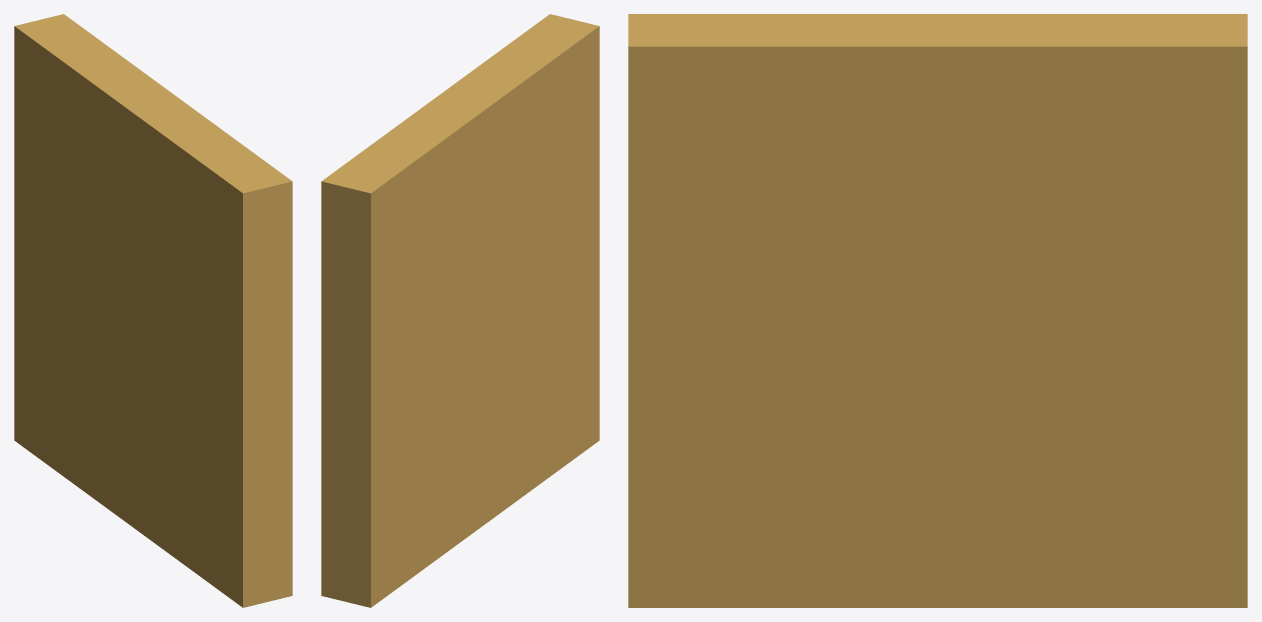
File: pared6a.obj
3 renders of one model, left to right at view 1: azimuth 30°, elevation 25°; view 2: azimuth 150°, elevation 25°; view 3: azimuth 270°, elevation 25°, orthographic. The views are drawn at different scales.
Visible parts, largest first — view 1: Wall.049; view 2: Wall.049; view 3: Wall.049.
Part boxes in pixels (x1,y1,x2,y2): Wall.049: (14,14,292,607); Wall.049: (321,14,599,607); Wall.049: (628,14,1247,607).
Bounding box in the file's own units: 1 × 8 × 8.
Materials: 4 (4 with a texture image).
